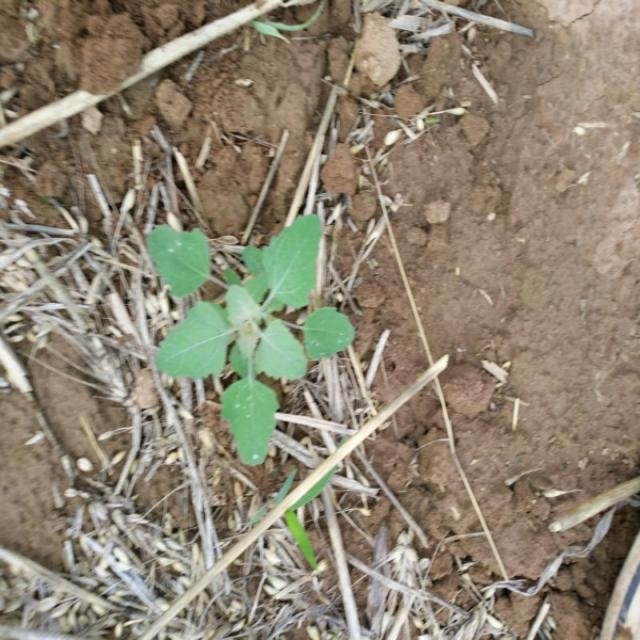goosefoots: (116, 202, 350, 447)
